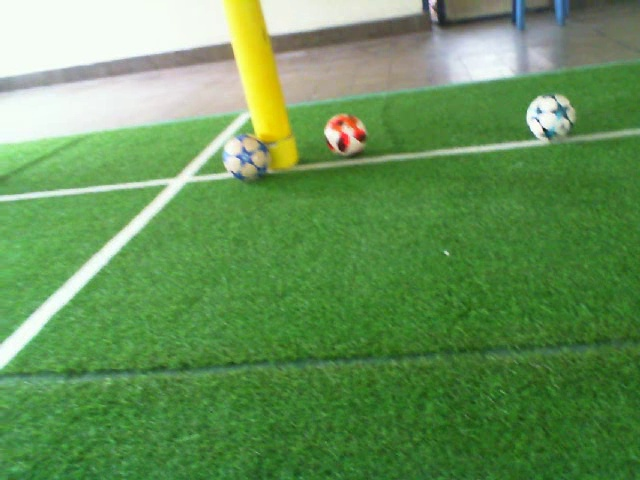ball: (523, 92, 579, 144), (220, 131, 272, 185), (321, 111, 371, 160)
